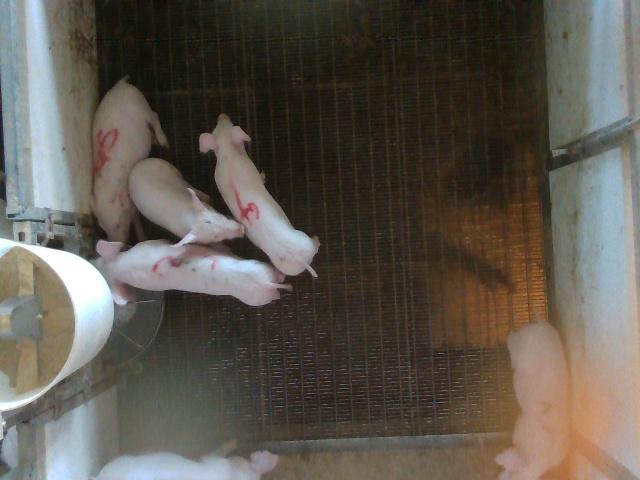pig-3: (94, 240, 291, 306), (496, 321, 569, 479)
pig-4: (199, 114, 320, 277)
pig-5: (92, 78, 168, 243)
